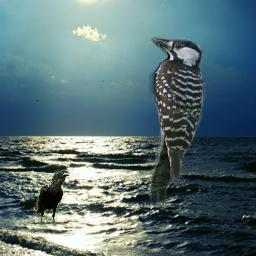Crow: (35, 169, 70, 227)
Woodpecker: (147, 34, 207, 206)
